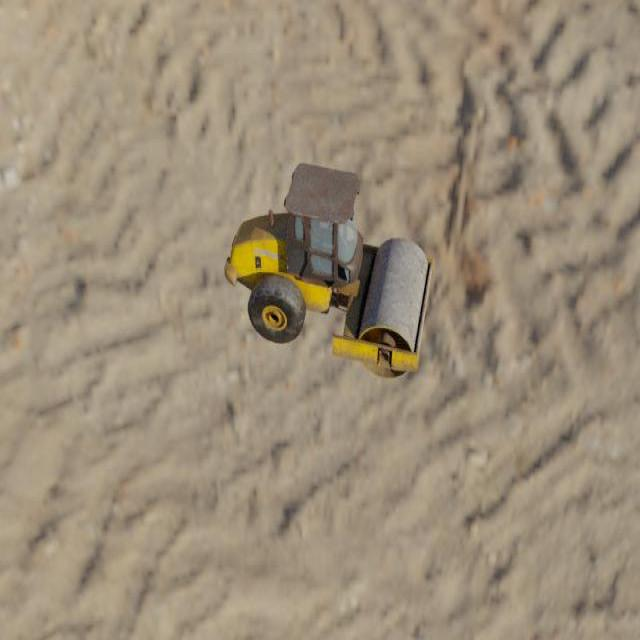Roller: (223, 161, 434, 379)
